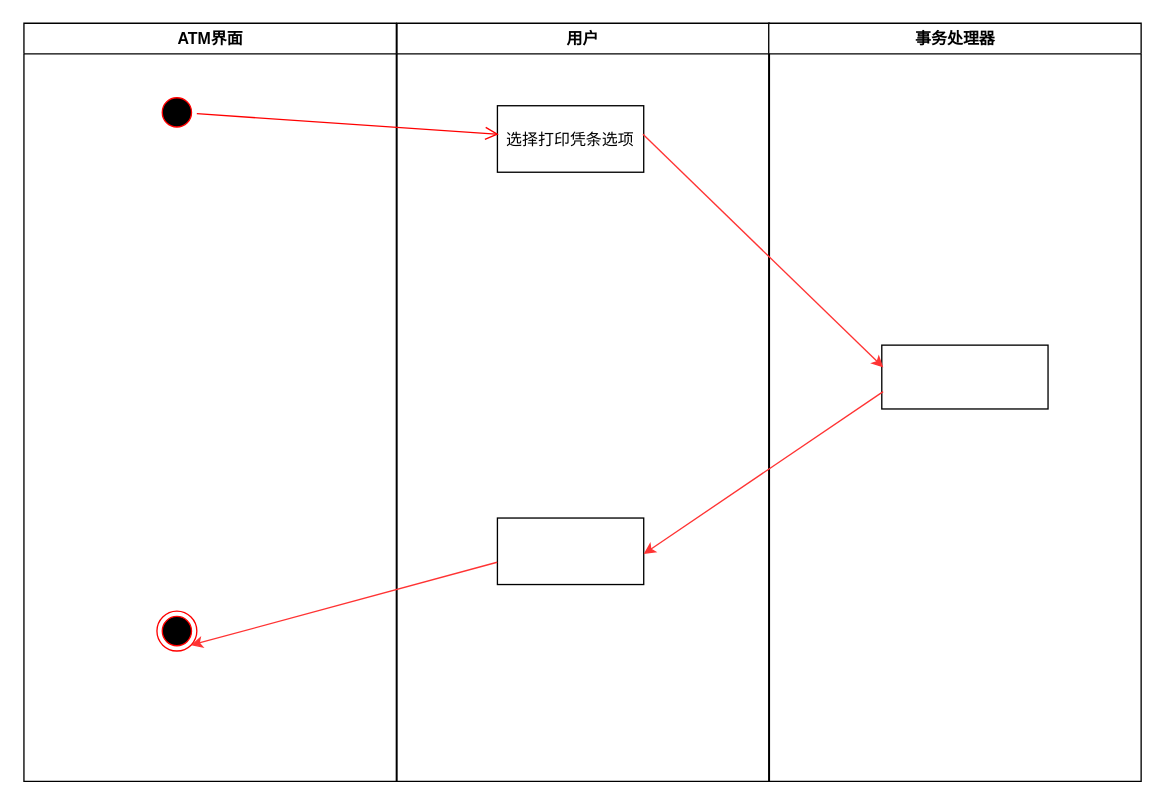
This 1164x805 diagram has some shape labels left out. Here are the shapes that lost their labels. From the top down, the centre of each, then its label:
At pixel 964 376: "调用打印机进行打印".
At pixel 570 551: "取走凭条".
